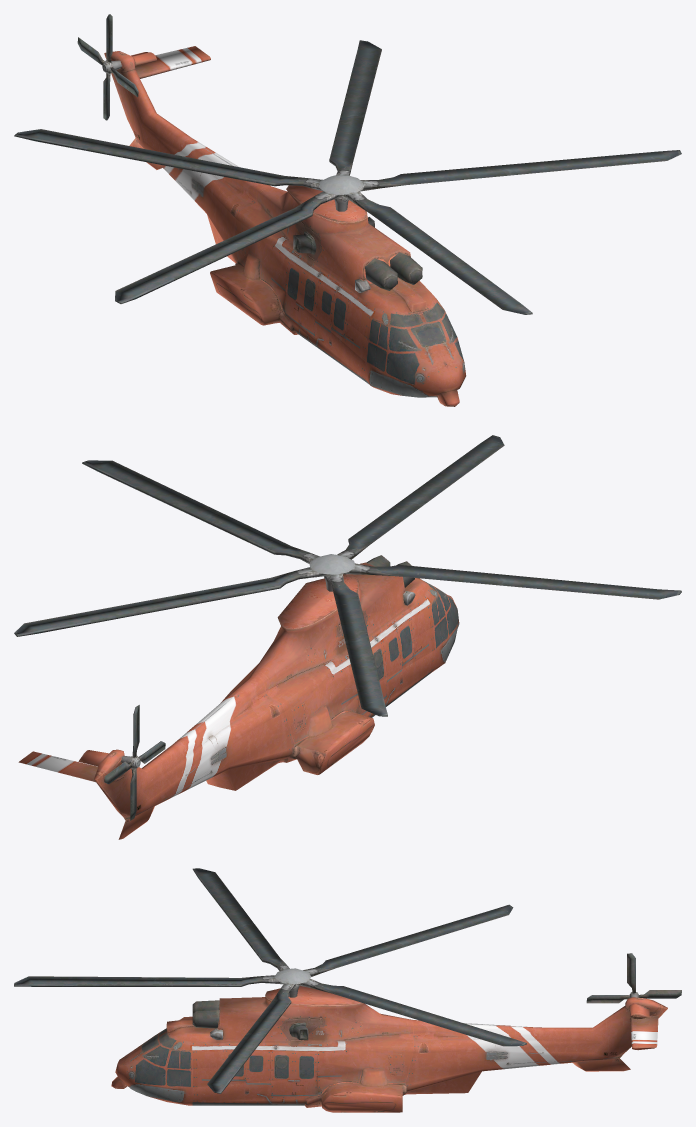
File: Generic_Helicopter.glb
3 views of the same model, one above another, from view 1: azimuth 30°, elevation 25°; view 2: azimuth 150°, elevation 25°; view 3: azimuth 270°, elevation 25° (orthographic). The views are drawn at different scales.
Visible parts, largest first — view 1: helicopter.002_Material.001_0, Prop_helicoterbiggood_ChopChop_TOP_helicopterbig_Material.00, helicopter.013_Material.001_0, helicopter.001_Material.001_0, Prop_helicoterbiggood_ChopChop_BACK_helicopterbig_Material.0, helicopter.012_Material.001_0, helicopter.008_Material.001_0, helicopter.009_Material.001_0; view 2: helicopter.002_Material.001_0, Prop_helicoterbiggood_ChopChop_TOP_helicopterbig_Material.00, helicopter.013_Material.001_0, helicopter.001_Material.001_0, Prop_helicoterbiggood_ChopChop_BACK_helicopterbig_Material.0, helicopter.012_Material.001_0; view 3: helicopter.002_Material.001_0, Prop_helicoterbiggood_ChopChop_TOP_helicopterbig_Material.00, helicopter.013_Material.001_0, helicopter_Material.001_0, Prop_helicoterbiggood_ChopChop_BACK_helicopterbig_Material.0, helicopter.012_Material.001_0, helicopter.009_Material.001_0.
Boxes of the visible parts, x1,y1,x2,y2 form: helicopter.002_Material.001_0: (237,185,466,406); Prop_helicoterbiggood_ChopChop_TOP_helicopterbig_Material.00: (14,40,681,314); helicopter.013_Material.001_0: (104,51,269,263); helicopter.001_Material.001_0: (210,253,298,334); Prop_helicoterbiggood_ChopChop_BACK_helicopterbig_Material.0: (77,14,138,120); helicopter.012_Material.001_0: (135,46,210,78); helicopter.008_Material.001_0: (365,258,397,290); helicopter.009_Material.001_0: (390,252,422,284); helicopter.002_Material.001_0: (231,562,459,763); Prop_helicoterbiggood_ChopChop_TOP_helicopterbig_Material.00: (14,435,681,716); helicopter.013_Material.001_0: (94,677,294,839); helicopter.001_Material.001_0: (288,705,374,774); Prop_helicoterbiggood_ChopChop_BACK_helicopterbig_Material.0: (104,705,165,820); helicopter.012_Material.001_0: (18,751,97,782); helicopter.002_Material.001_0: (111,985,413,1107); Prop_helicoterbiggood_ChopChop_TOP_helicopterbig_Material.00: (14,868,526,1093); helicopter.013_Material.001_0: (405,997,667,1094); helicopter_Material.001_0: (305,1068,406,1112); Prop_helicoterbiggood_ChopChop_BACK_helicopterbig_Material.0: (586,953,681,1003); helicopter.012_Material.001_0: (630,1015,658,1050); helicopter.009_Material.001_0: (192,1010,219,1028).
Bounding box in the file's own units: 15.24 × 4.23 × 19.13.
1 material, 1 textured.
